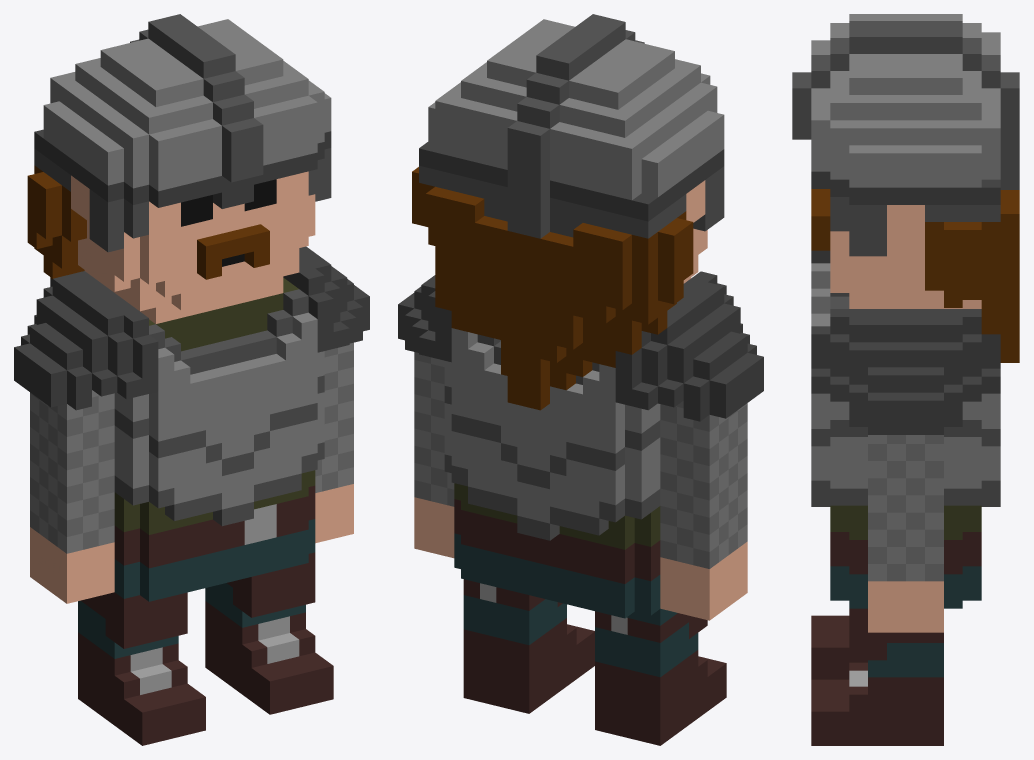
Rendered from fighter.fbx.
The picture shows the model from 3 angles, left to right: view 1: azimuth 30°, elevation 25°; view 2: azimuth 150°, elevation 25°; view 3: azimuth 270°, elevation 25°; orthographic projection. The views are drawn at different scales.
Visible parts, largest first — view 1: fighter_complete-7, fighter_complete-4, fighter_complete-11, fighter_complete-5, fighter_complete-1, fighter_complete-0, fighter_complete-9, fighter_complete-10, fighter_complete-6, fighter_complete-2, fighter_complete-3, fighter_complete-8; view 2: fighter_complete-7, fighter_complete-4, fighter_complete-11, fighter_complete-5, fighter_complete-1, fighter_complete-0, fighter_complete-9, fighter_complete-6, fighter_complete-2, fighter_complete-10, fighter_complete-3, fighter_complete-8; view 3: fighter_complete-7, fighter_complete-4, fighter_complete-10, fighter_complete-1, fighter_complete-6, fighter_complete-8, fighter_complete-3, fighter_complete-0.
Boxes of the visible parts, x1,y1,x2,y2 form: fighter_complete-7: (27, 14, 331, 323); fighter_complete-4: (114, 278, 324, 601); fighter_complete-11: (14, 271, 158, 410); fighter_complete-5: (30, 443, 114, 603); fighter_complete-1: (205, 587, 333, 714); fighter_complete-0: (78, 615, 205, 745); fighter_complete-9: (30, 390, 114, 470); fighter_complete-10: (283, 246, 369, 352); fighter_complete-6: (315, 400, 353, 543); fighter_complete-2: (78, 592, 187, 648); fighter_complete-3: (209, 552, 315, 617); fighter_complete-8: (324, 342, 353, 407); fighter_complete-7: (412, 14, 724, 410); fighter_complete-4: (444, 328, 660, 618); fighter_complete-11: (615, 271, 763, 421); fighter_complete-5: (660, 456, 747, 620); fighter_complete-1: (463, 603, 594, 713); fighter_complete-0: (595, 633, 726, 745); fighter_complete-9: (660, 401, 747, 483); fighter_complete-6: (414, 411, 454, 558); fighter_complete-2: (595, 608, 707, 659); fighter_complete-10: (398, 275, 451, 362); fighter_complete-3: (463, 579, 562, 627); fighter_complete-8: (414, 352, 444, 418); fighter_complete-7: (792, 14, 1019, 362); fighter_complete-4: (811, 263, 1000, 608); fighter_complete-10: (811, 309, 1000, 434); fighter_complete-1: (811, 660, 943, 745); fighter_complete-6: (868, 495, 943, 632); fighter_complete-8: (868, 435, 943, 495); fighter_complete-3: (849, 608, 943, 660); fighter_complete-0: (811, 615, 867, 679).
Bounding box in the file's own units: 200 × 390 × 120.
